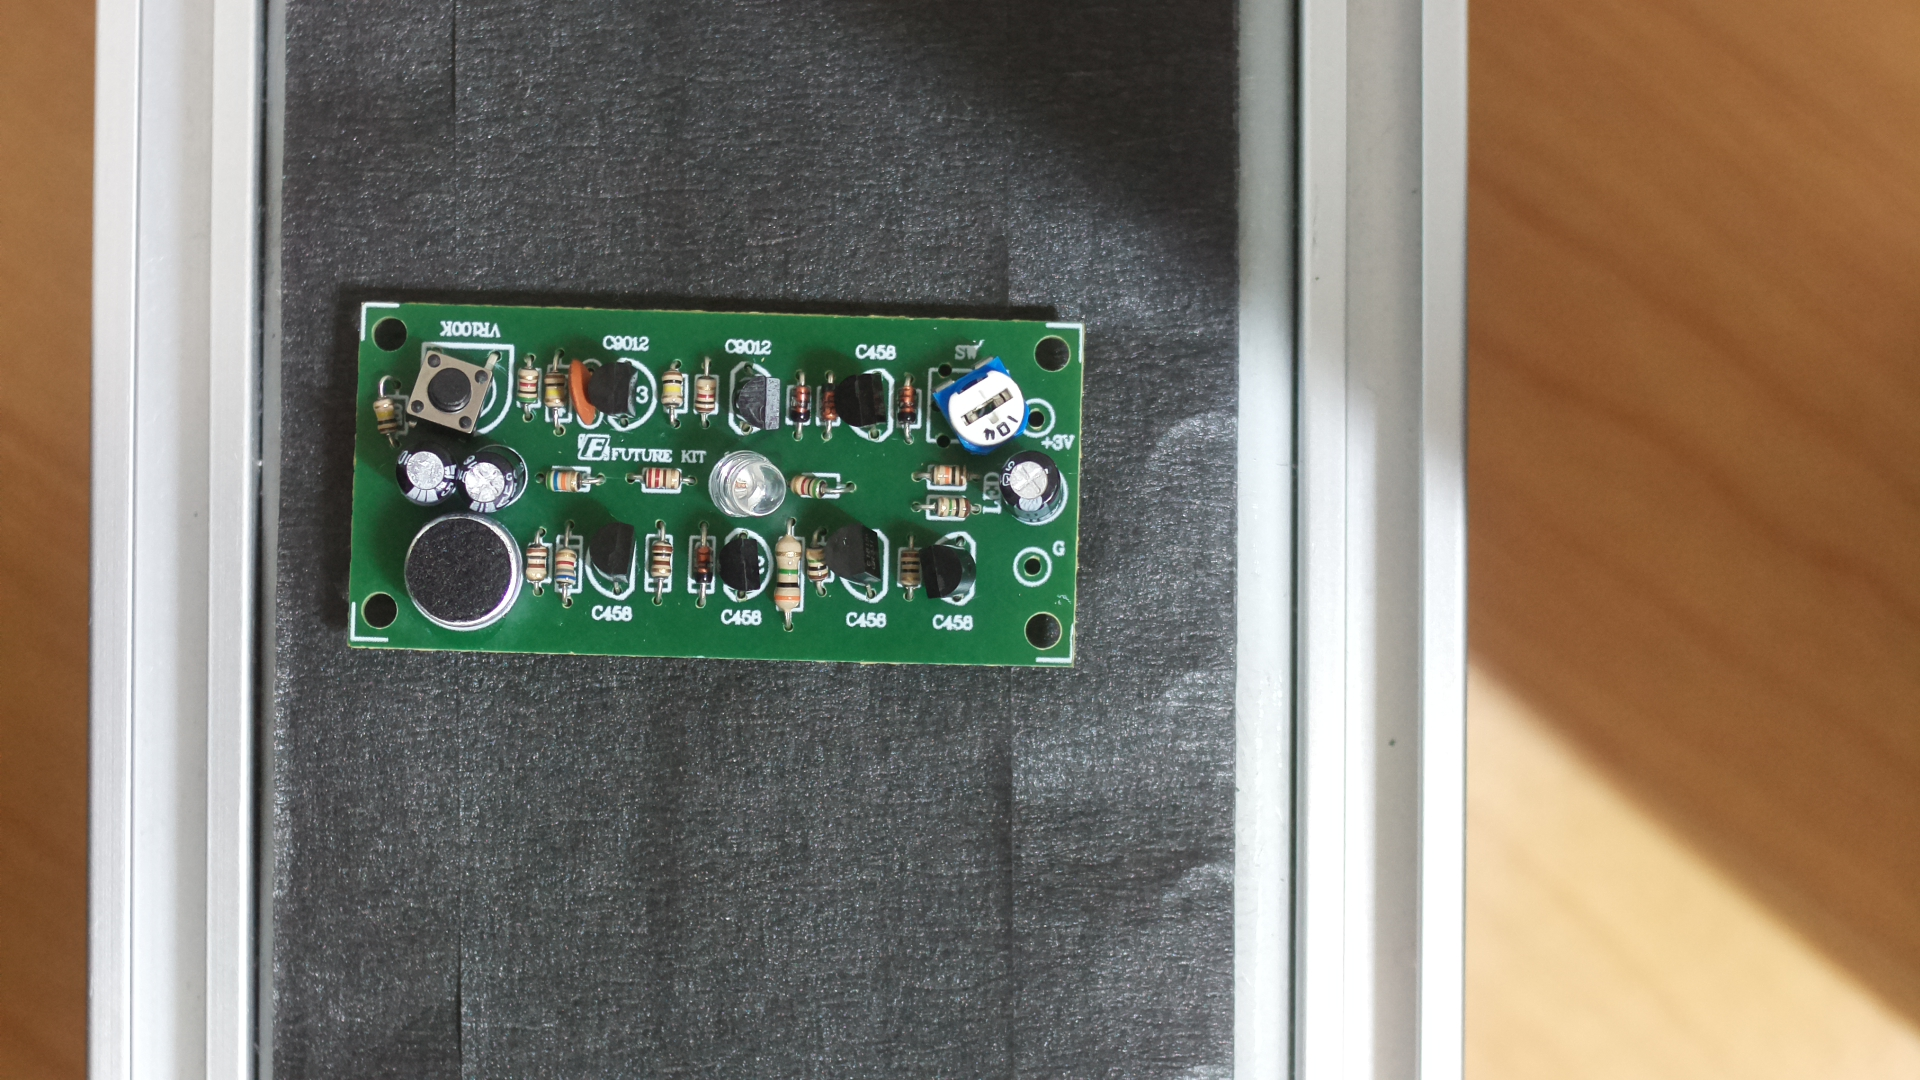A_Misordered: (336, 280, 1106, 690)
